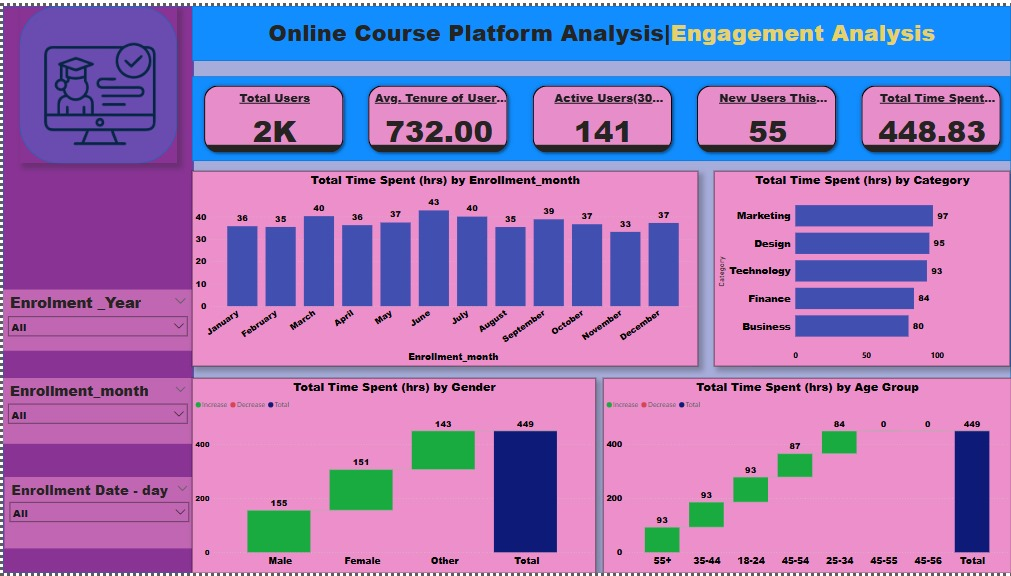

The dashboard page shown, as its layout file describes it:
{"tool":"powerbi","page":{"name":"Engagement Analysis","canvas":[1920,1080],"ordinal":2},"visuals":[{"type":"shape","box":[0,0,1920.1,1080.8],"z":0},{"type":"shape","box":[0,0,363.5,1080.8],"z":1000},{"type":"shape","box":[361.1,134.2,1559,161],"z":2000},{"type":"shape","box":[366.7,713.9,494.4,366.7],"z":3000},{"type":"shape","box":[363.5,319.6,495.3,366],"z":4000},{"type":"shape","box":[1424.9,319.6,495.3,366],"z":6000},{"type":"shape","box":[361.1,0,1559,104.9],"z":7000},{"type":"textbox","box":[363.9,13.9,1555.6,91.7],"z":8000},{"type":"image","box":[2.4,19.5,363.5,295.2],"z":9000},{"type":"shape","box":[30.6,0,300,300],"z":10000},{"type":"cardVisual","fields":{"Data":["OnlineLearningPlatform.Total Users","OnlineLearningPlatform.Avg. Tenure of Users (Days)","OnlineLearningPlatform.Active Users (UO)(30 Days)","OnlineLearningPlatform.New Users This Month","OnlineLearningPlatform.Total Time Spent (hrs)"]},"box":[366,134.2,1554.2,161],"z":11000},{"type":"slicer","fields":{"Values":["OnlineLearningPlatform.Quarter"]},"box":[1355.6,408.3,530.6,105.6],"z":12000},{"type":"slicer","fields":{"Values":["OnlineLearningPlatform.Enrolment _Year"]},"box":[0,538.9,361.1,116.7],"z":13000},{"type":"slicer","fields":{"Values":["OnlineLearningPlatform.Enrollment_month"]},"box":[0,708.3,361.1,125],"z":14000},{"type":"slicer","fields":{"Values":["OnlineLearningPlatform.Enrollment Date - day"]},"box":[2.8,897.2,361.1,136.1],"z":15000},{"type":"shape","box":[363.9,213.9,494.4,300],"z":17000},{"type":"columnChart","fields":{"Category":["OnlineLearningPlatform.Enrollment_month"],"Y":["OnlineLearningPlatform.Total Time Spent (hrs)"]},"box":[361.1,313.9,963.9,372.2],"z":18000},{"type":"clusteredBarChart","fields":{"Y":["OnlineLearningPlatform.Total Time Spent (hrs)"],"Category":["OnlineLearningPlatform.Category"]},"box":[1355.6,313.9,563.9,372.2],"z":20000},{"type":"waterfallChart","fields":{"Category":["OnlineLearningPlatform.Gender"],"Y":["OnlineLearningPlatform.Total Time Spent (hrs)"]},"box":[361.1,708.3,769.4,372.2],"z":21000},{"type":"waterfallChart","fields":{"Category":["OnlineLearningPlatform.Age Group"],"Y":["OnlineLearningPlatform.Total Time Spent (hrs)"]},"box":[1141.7,708.3,777.8,372.2],"z":22000}]}

Visuals, with their boxes in screenshot pixels (x1, y1, x2, y2), scaled from the page's 1920x1080 canvas onto the 1011x576 screenshot:
shape: (0,0,1010,575)
shape: (0,0,191,575)
shape: (190,72,1010,157)
shape: (193,381,453,575)
shape: (191,170,452,366)
shape: (750,170,1010,366)
shape: (190,0,1010,56)
textbox: (192,7,1010,56)
image: (1,10,193,168)
shape: (16,0,174,160)
cardVisual - OnlineLearningPlatform.Total Users x OnlineLearningPlatform.Avg. Tenure of Users (Days): (193,72,1010,157)
slicer - OnlineLearningPlatform.Quarter: (714,218,993,274)
slicer - OnlineLearningPlatform.Enrolment _Year: (0,287,190,350)
slicer - OnlineLearningPlatform.Enrollment_month: (0,378,190,444)
slicer - OnlineLearningPlatform.Enrollment Date - day: (1,479,192,551)
shape: (192,114,452,274)
columnChart - OnlineLearningPlatform.Enrollment_month x OnlineLearningPlatform.Total Time Spent (hrs): (190,167,698,366)
clusteredBarChart - OnlineLearningPlatform.Total Time Spent (hrs) x OnlineLearningPlatform.Category: (714,167,1010,366)
waterfallChart - OnlineLearningPlatform.Gender x OnlineLearningPlatform.Total Time Spent (hrs): (190,378,595,575)
waterfallChart - OnlineLearningPlatform.Age Group x OnlineLearningPlatform.Total Time Spent (hrs): (601,378,1010,575)
